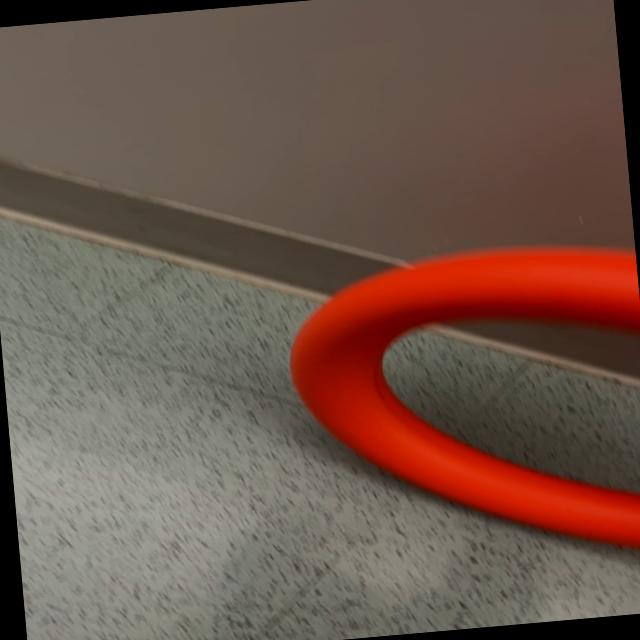note: (277, 233, 640, 582)
